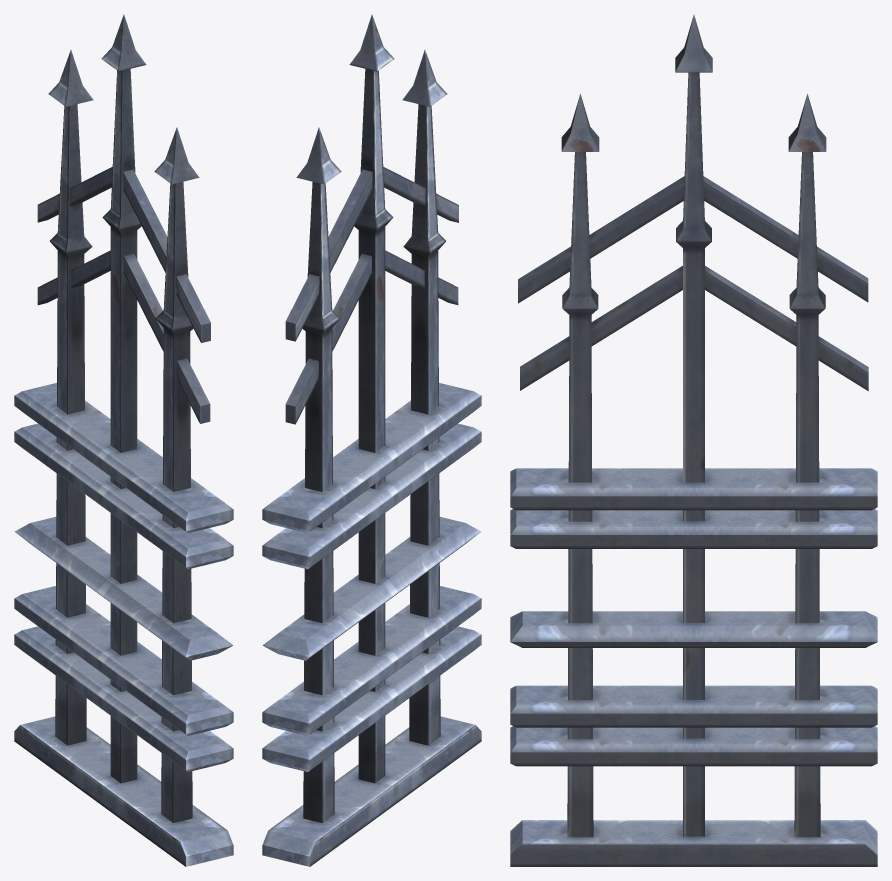
The model's file is gate.glb.
3 views of the same model, side by side, from view 1: azimuth 30°, elevation 25°; view 2: azimuth 150°, elevation 25°; view 3: azimuth 270°, elevation 25° (orthographic). The views are drawn at different scales.
Parts seen in each view (by area): view 1: fireGate; view 2: fireGate; view 3: fireGate.
Boxes of the visible parts, left/top/right/bottom form: fireGate: left=14, top=14, right=233, bottom=866; fireGate: left=262, top=14, right=481, bottom=866; fireGate: left=510, top=15, right=877, bottom=866.
Size of what is drawn, in the model's own units: 0.2832 by 4.46 by 1.77.
1 material, 1 textured.
